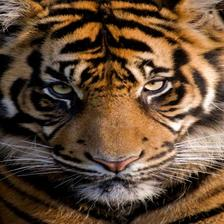tiger: (6, 7, 224, 221)
